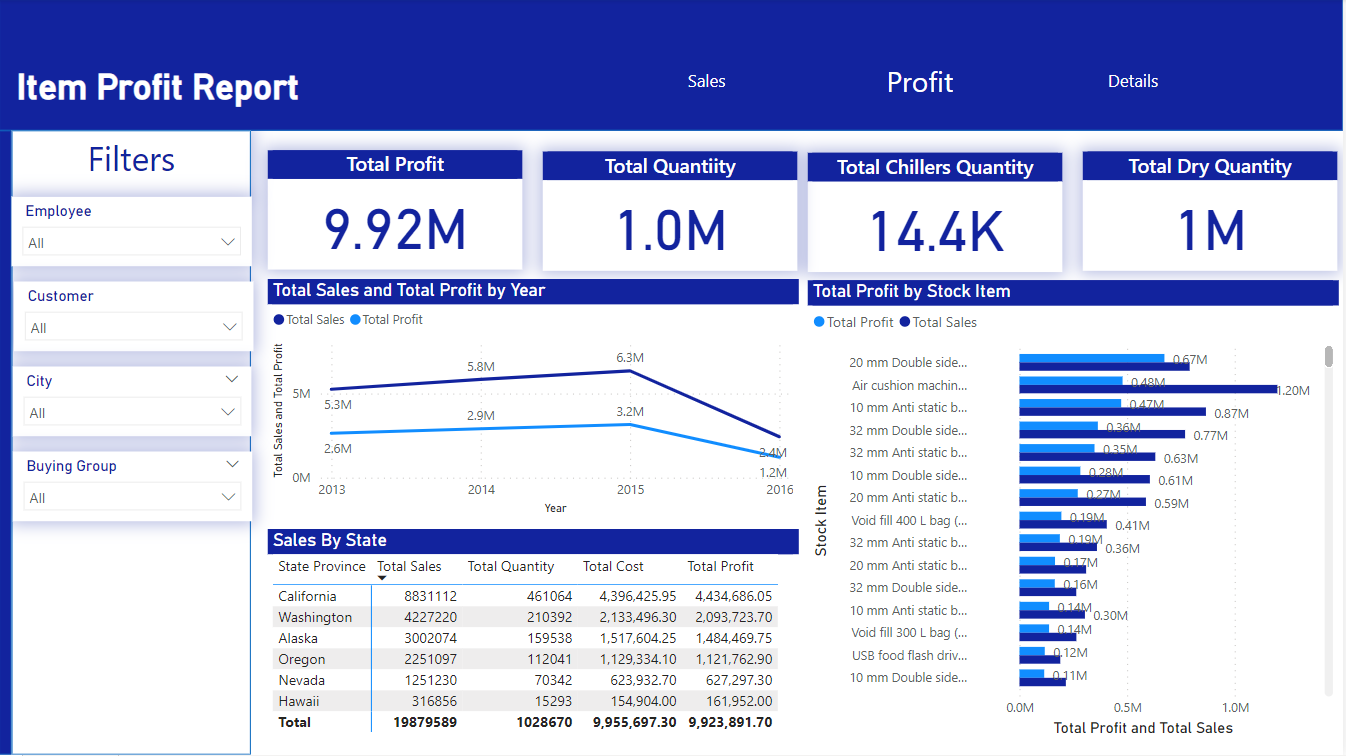

Layout of this report page (visuals, bound fields, positions):
{"tool":"powerbi","page":{"name":"Profit","canvas":[1280,720],"ordinal":1},"visuals":[{"type":"shape","box":[0,0,1279.6,125.4],"z":0},{"type":"shape","box":[0,125.4,12.1,594.6],"z":1000},{"type":"shape","box":[12.1,125.4,227.9,594.6],"z":2000},{"type":"textbox","box":[12.1,59.1,306.3,86.8],"z":3000},{"type":"card","title":"Total Profit","fields":{"Values":["Sum(FactSale.Profit)"]},"box":[255.3,144,242.4,113.4],"z":4000},{"type":"card","title":"Total Dry Quantity","fields":{"Values":["Sum(FactSale.Total Dry Items)"]},"box":[1032.4,145.3,242.4,113.4],"z":5000},{"type":"card","title":"Total Chillers Quantity","fields":{"Values":["Sum(FactSale.Total Chiller Items)"]},"box":[769.8,146.2,242.4,113.4],"z":6000},{"type":"card","title":"Total Quantiity","fields":{"Values":["Sum(FactSale.Quantity)"]},"box":[517.8,145.3,242.4,113.4],"z":7000},{"type":"textbox","box":[12.1,125.4,227.9,62.7],"z":8000},{"type":"lineChart","fields":{"Category":["DimDate.Date.Variation.Date Hierarchy.Year","DimDate.Date.Variation.Date Hierarchy.Quarter","DimDate.Date.Variation.Date Hierarchy.Month","DimDate.Date.Variation.Date Hierarchy.Day"],"Y":["Sum(FactSale.Total Excluding Tax)","Sum(FactSale.Profit)"]},"box":[255.3,266.8,505.3,229.1],"z":9000},{"type":"clusteredBarChart","title":"Total Profit by Stock Item","fields":{"Category":["DimStockItem.Stock Item"],"Y":["Sum(FactSale.Profit)","Sum(FactSale.Total Excluding Tax)"]},"box":[769.4,267.7,505.3,439],"z":10000},{"type":"pivotTable","title":"Sales By State ","fields":{"Values":["Sum(FactSale.Total Excluding Tax)","Sum(FactSale.Quantity)","Sum(FactSale.Cost)","Sum(FactSale.Profit)"],"Rows":["DimCity.State Province"]},"box":[255.3,504.4,505.3,201.4],"z":11000},{"type":"slicer","fields":{"Values":["DimEmployee.Employee"]},"box":[11.9,188,228.5,66.6],"z":12000},{"type":"slicer","fields":{"Values":["DimCustomer.Customer"]},"box":[14.5,268.9,227.9,66.3],"z":13000},{"type":"slicer","fields":{"Values":["DimCity.City"]},"box":[13.1,349.9,227.3,66.6],"z":14000},{"type":"slicer","fields":{"Values":["DimCustomer.Buying Group"]},"box":[13.3,430.6,227.9,66.3],"z":15000},{"type":"pageNavigator","box":[577.2,52.4,599.8,50],"z":16000}]}

Visuals, with their boxes in screenshot pixels (x1, y1, x2, y2), scaled from the page's 1280x720 canvas onto the 1346x756 screenshot:
shape: bbox(0, 0, 1345, 132)
shape: bbox(0, 132, 13, 755)
shape: bbox(13, 132, 252, 755)
textbox: bbox(13, 62, 335, 153)
"Total Profit" card: bbox(268, 151, 523, 270)
"Total Dry Quantity" card: bbox(1086, 153, 1341, 272)
"Total Chillers Quantity" card: bbox(809, 154, 1064, 273)
"Total Quantiity" card: bbox(544, 153, 799, 272)
textbox: bbox(13, 132, 252, 198)
lineChart - DimDate.Date.Variation.Date Hierarchy.Year x DimDate.Date.Variation.Date Hierarchy.Quarter: bbox(268, 280, 800, 521)
"Total Profit by Stock Item" clusteredBarChart: bbox(809, 281, 1340, 742)
"Sales By State " pivotTable: bbox(268, 530, 800, 741)
slicer - DimEmployee.Employee: bbox(13, 197, 253, 267)
slicer - DimCustomer.Customer: bbox(15, 282, 255, 352)
slicer - DimCity.City: bbox(14, 367, 253, 437)
slicer - DimCustomer.Buying Group: bbox(14, 452, 254, 522)
pageNavigator: bbox(607, 55, 1238, 108)
